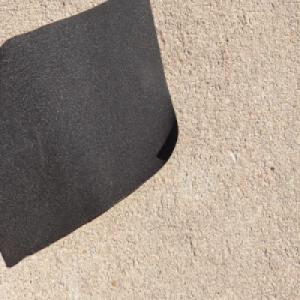PaintChip: (6, 0, 190, 267)
